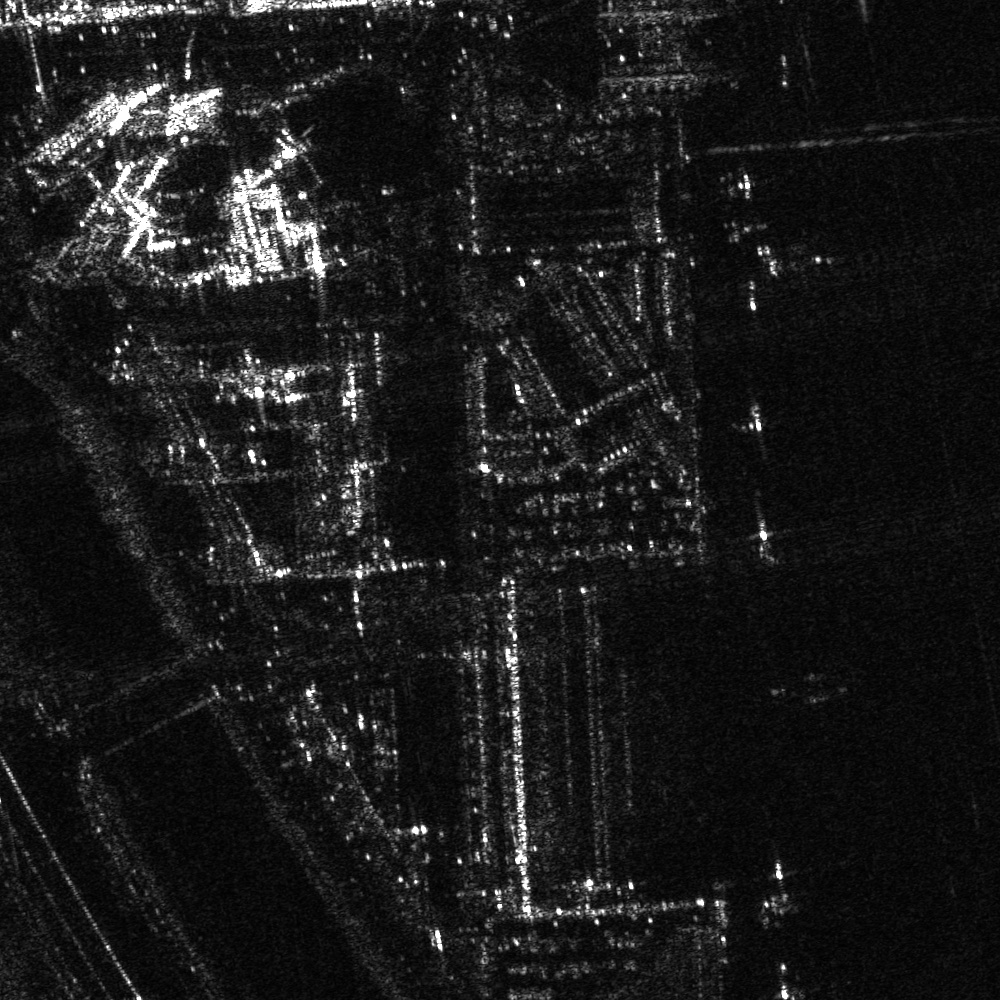A220: (738, 234, 844, 291)
